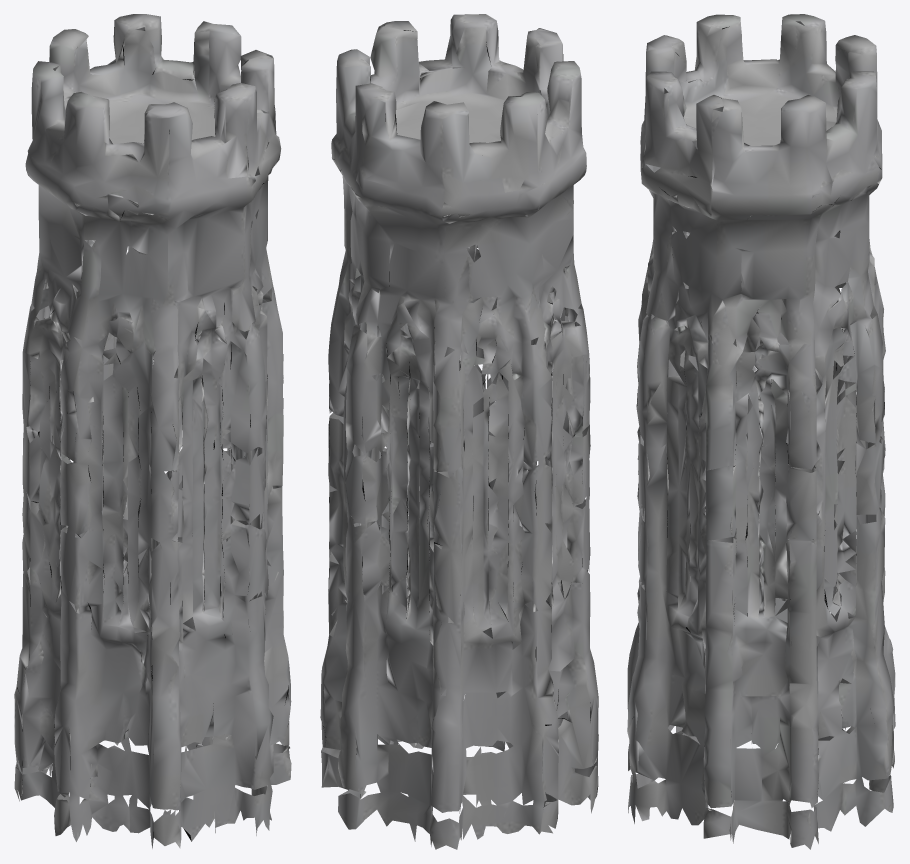
File: hero_tower.glb
3 views of the same model, side by side, from view 1: azimuth 30°, elevation 25°; view 2: azimuth 150°, elevation 25°; view 3: azimuth 270°, elevation 25° (orthographic).
Parts seen in each view (by area): view 1: hero_tower; view 2: hero_tower; view 3: hero_tower.
Boxes of the visible parts, x1,y1,x2,y2 form: hero_tower: [14, 14, 291, 848]; hero_tower: [320, 14, 598, 849]; hero_tower: [627, 14, 895, 849].
Bounding box in the file's own units: 1.29 × 3.95 × 1.3.
1 material, 1 textured.
